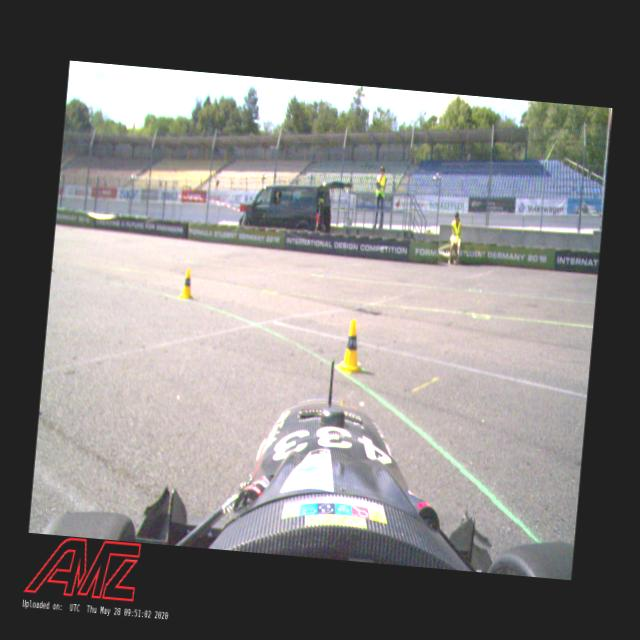yellow_cone: (338, 314, 366, 372), (178, 266, 194, 300)
